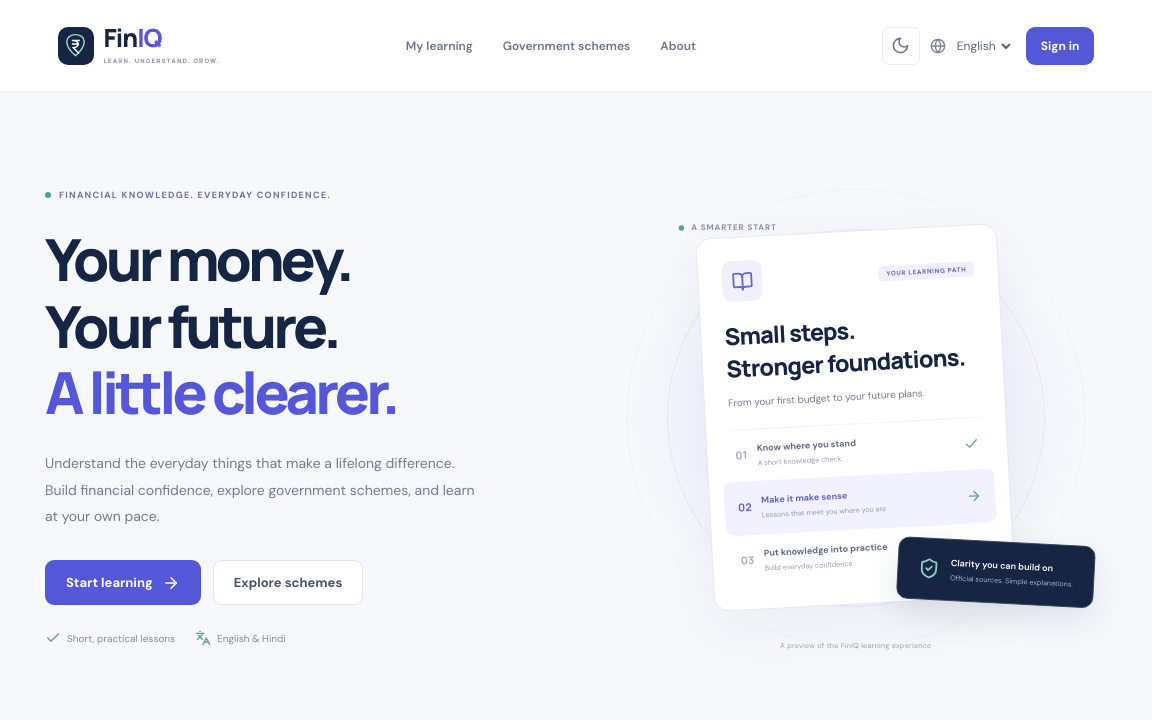
Test: navigates without returning the browser scroll promise as an effect cleanup
The width and height of the screenshot is (1152, 720).
Click the link "About" at (678, 46), box [660,36,696,54]
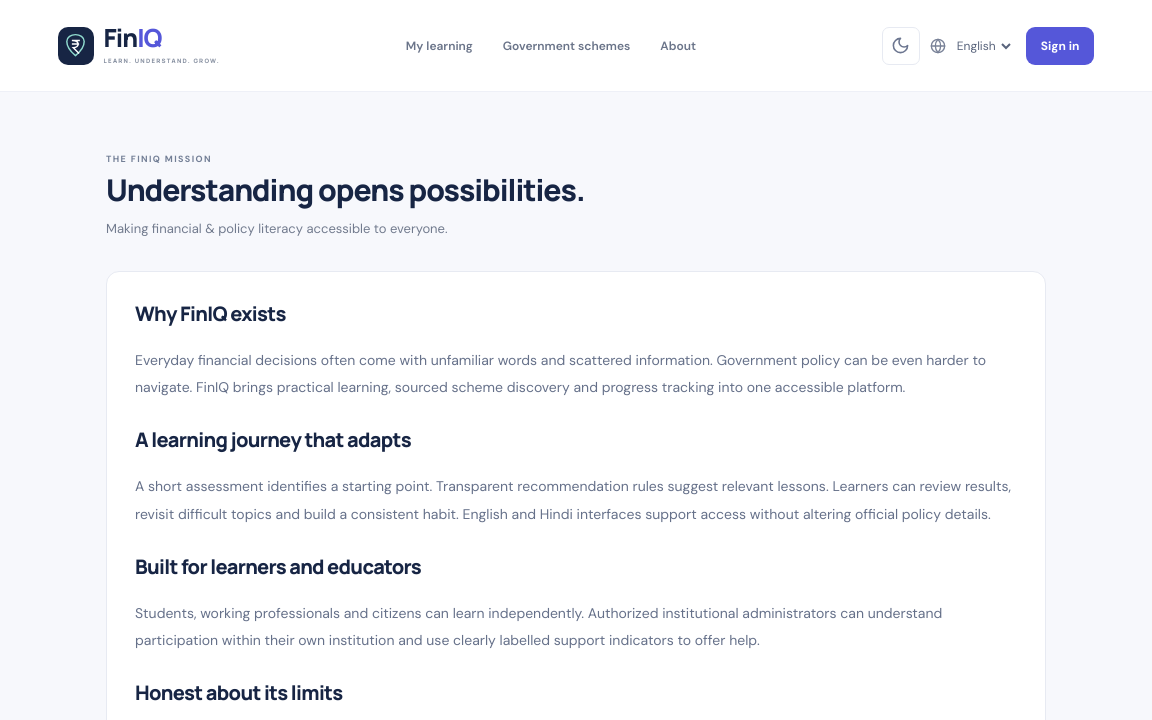
Now the heading "Understanding opens possibilities." is shown, box [106,170,584,211]
